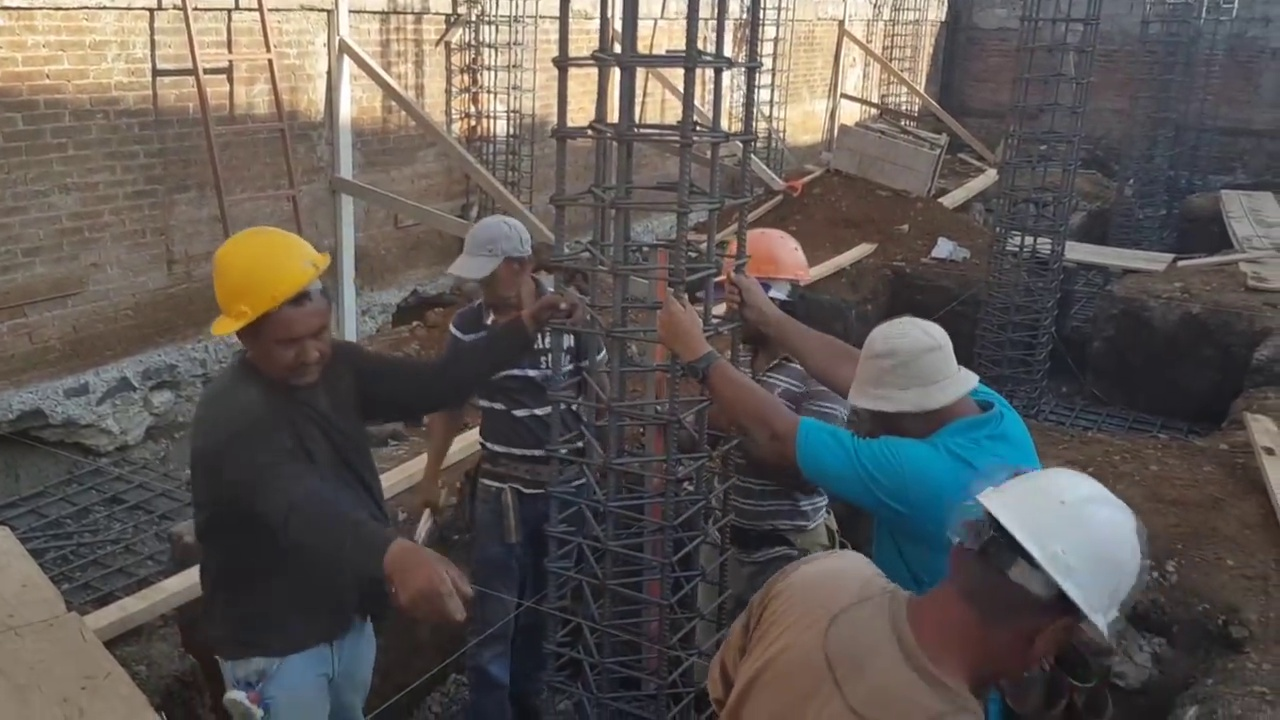helmet: (963, 470, 1129, 667), (199, 220, 324, 340), (714, 231, 821, 286)
helmet-off: (841, 324, 984, 451), (445, 215, 551, 310)
helmet-on: (902, 470, 1148, 694), (199, 201, 346, 394), (710, 217, 823, 332)
person: (181, 194, 519, 720), (701, 465, 1155, 719), (673, 278, 1053, 579), (414, 190, 599, 673), (683, 216, 840, 668)
